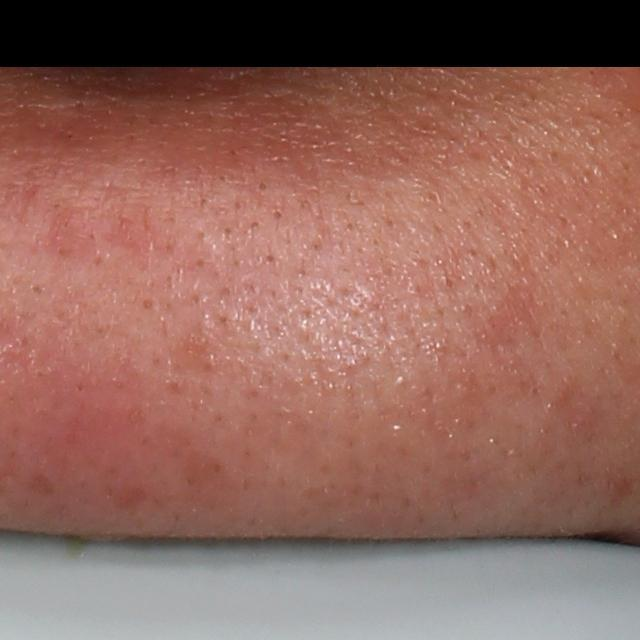comedo: (132, 292, 162, 314), (254, 177, 274, 195), (269, 206, 287, 223)
